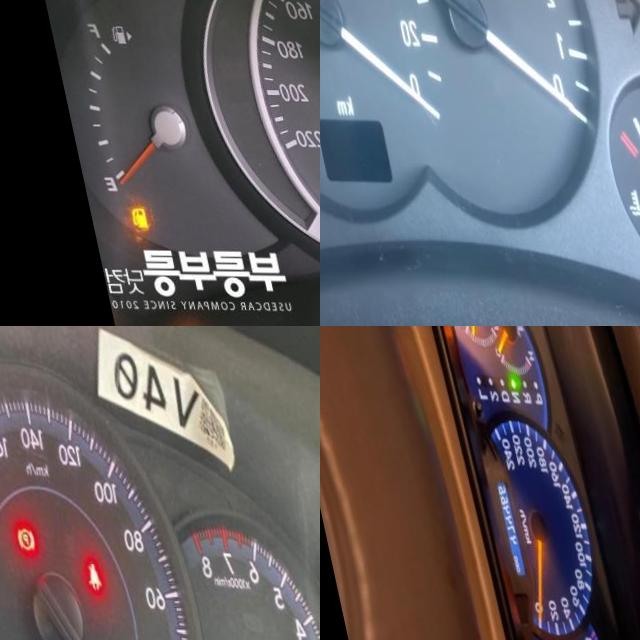Low fuel level: (110, 205, 129, 229)
Seat Belt: (72, 560, 92, 591)
